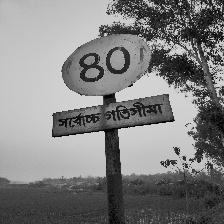Speed-limit: (53, 32, 172, 138)
